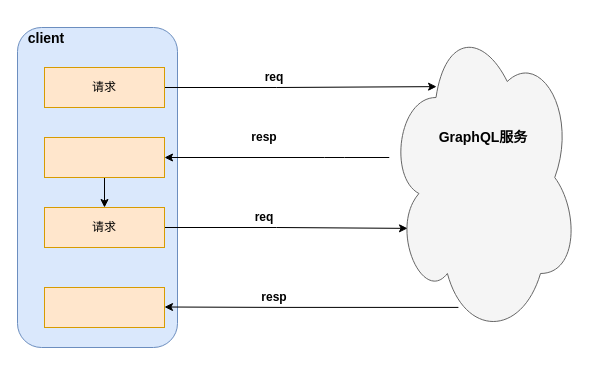
Some shapes in this 596 by 365 pixel diagram are drawn without their labels. The shapes that lost their labels are listed below. From the top down, each one's centre as x and y in pixels, then its label:
At point 104,157: "解析".
At point 104,307: "合并+后置处理".
